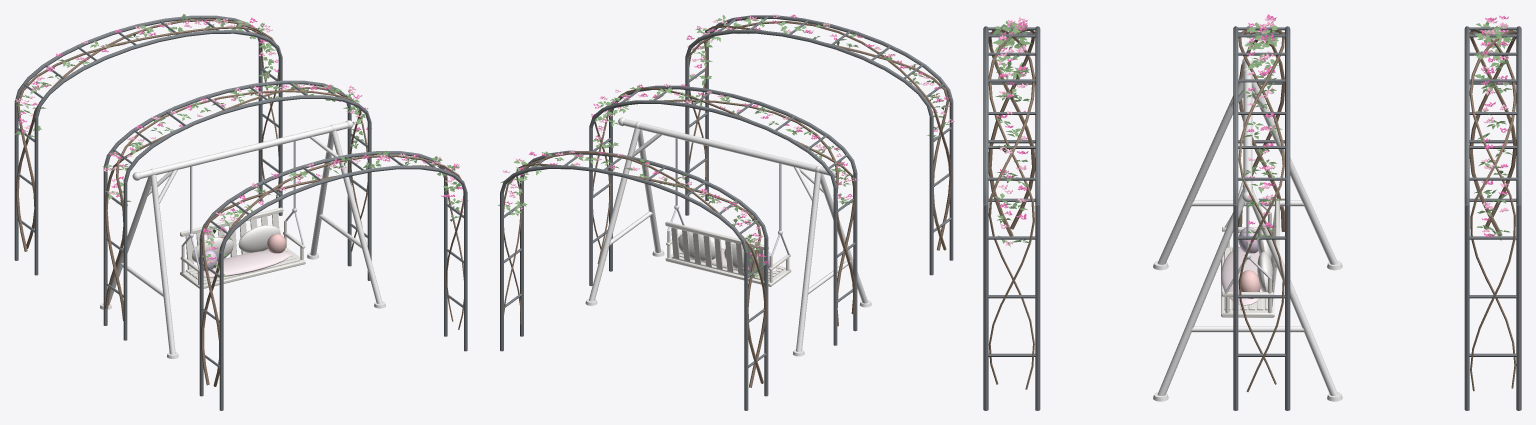
The model's file is garden_swing_arches.glb.
3 views of the same model, side by side, from view 1: azimuth 30°, elevation 25°; view 2: azimuth 150°, elevation 25°; view 3: azimuth 270°, elevation 25° (orthographic). The views are drawn at different scales.
Parts seen in each view (by area): view 1: Bougainvillea_Arches, Bougainvillea_Vines, Swing_Frame, Bougainvillea_Foliage, Swing_Bench, Bougainvillea_BloomsA, Swing_SeatCushion, Bougainvillea_BloomsB, Swing_BackCushions, Swing_Chains; view 2: Bougainvillea_Arches, Bougainvillea_Vines, Swing_Frame, Swing_Bench, Bougainvillea_Foliage, Bougainvillea_BloomsB, Bougainvillea_BloomsA, Swing_BackCushions, Swing_Chains; view 3: Bougainvillea_Arches, Bougainvillea_Vines, Swing_Frame, Bougainvillea_Foliage, Swing_Bench, Bougainvillea_BloomsB, Bougainvillea_BloomsA, Swing_SeatCushion, Swing_BackCushions.
Part boxes in pixels (x1,y1,x2,y2): Bougainvillea_Arches: (14, 15, 467, 410); Bougainvillea_Vines: (16, 18, 463, 386); Swing_Frame: (100, 120, 385, 358); Bougainvillea_Foliage: (15, 14, 461, 276); Swing_Bench: (180, 207, 305, 288); Bougainvillea_BloomsA: (19, 17, 462, 259); Swing_SeatCushion: (197, 250, 290, 277); Bougainvillea_BloomsB: (15, 18, 468, 263); Swing_BackCushions: (192, 225, 280, 262); Swing_Chains: (181, 141, 304, 270); Bougainvillea_Arches: (500, 15, 953, 410); Bougainvillea_Vines: (504, 21, 952, 387); Swing_Frame: (585, 117, 871, 356); Swing_Bench: (665, 221, 791, 286); Bougainvillea_Foliage: (497, 15, 949, 278); Bougainvillea_BloomsB: (502, 14, 954, 269); Bougainvillea_BloomsA: (505, 14, 950, 263); Swing_BackCushions: (678, 232, 758, 272); Swing_Chains: (667, 138, 789, 255); Bougainvillea_Arches: (983, 26, 1521, 410); Bougainvillea_Vines: (988, 28, 1516, 391); Swing_Frame: (1153, 56, 1342, 401); Bougainvillea_Foliage: (992, 20, 1512, 246); Swing_Bench: (1221, 198, 1279, 317); Bougainvillea_BloomsB: (997, 17, 1509, 245); Bougainvillea_BloomsA: (998, 14, 1508, 237); Swing_SeatCushion: (1221, 247, 1262, 305); Swing_BackCushions: (1257, 226, 1272, 291).
Size of the model in its own units: 4.28 by 3.3 by 5.82.
